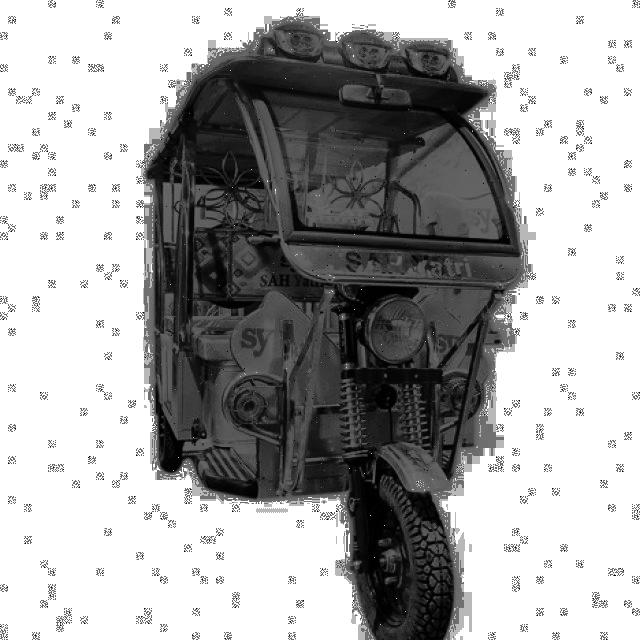Toto: (143, 56, 523, 640)
